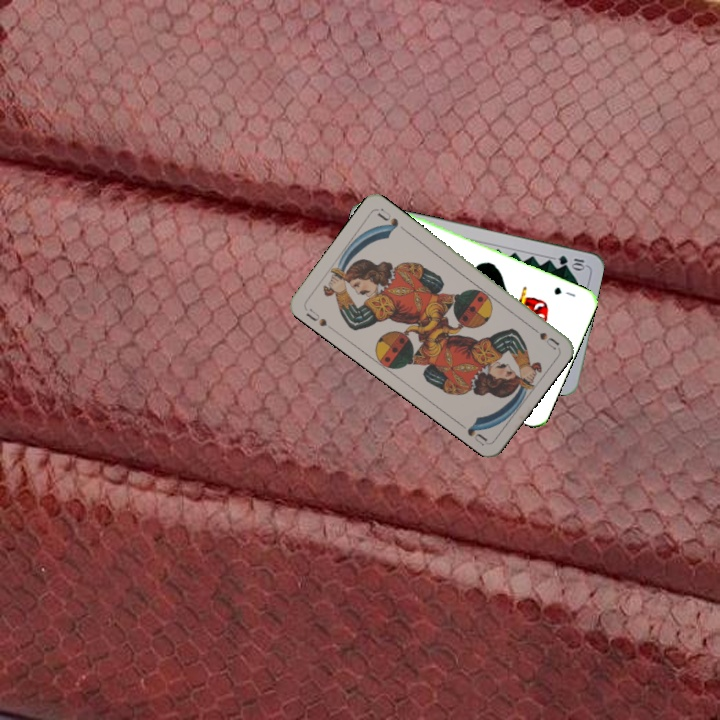G10: (554, 251, 587, 271)
GU: (550, 283, 578, 299)
SU: (525, 321, 561, 352), (302, 305, 330, 329)
